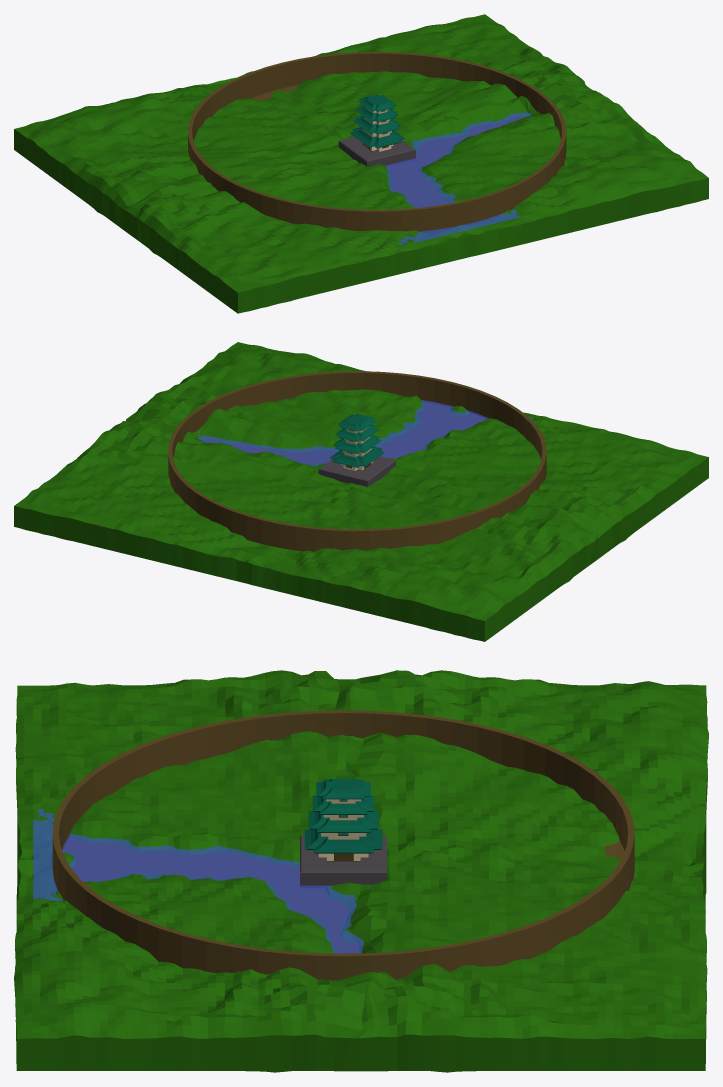
The model's file is fullmaptemp.fbx.
3 views of the same model, one above another, from view 1: azimuth 30°, elevation 25°; view 2: azimuth 150°, elevation 25°; view 3: azimuth 270°, elevation 25° (orthographic). The views are drawn at different scales.
Visible parts, largest first — view 1: Cube, Cylinder, waterlevel, templebase, Cube.003, Cube.002, Cube.004; view 2: Cube, Cylinder, waterlevel, templebase, Cube.003, Cube.002, Cube.004; view 3: Cube, Cylinder, waterlevel, templebase, Cube.003, Cube.002, Cube.004, Cube.001.
Part boxes in pixels (<box>): Cube: <box>14,14,708,313</box>; Cylinder: <box>188,52,566,233</box>; waterlevel: <box>385,112,531,244</box>; templebase: <box>338,137,415,166</box>; Cube.003: <box>349,127,404,152</box>; Cube.002: <box>353,115,401,137</box>; Cube.004: <box>358,94,395,113</box>; Cube: <box>14,342,708,641</box>; Cylinder: <box>168,371,546,551</box>; waterlevel: <box>198,400,532,466</box>; templebase: <box>318,456,395,487</box>; Cube.003: <box>330,446,384,471</box>; Cube.002: <box>333,435,381,457</box>; Cube.004: <box>338,414,376,433</box>; Cube: <box>14,670,708,1072</box>; Cylinder: <box>52,710,634,980</box>; waterlevel: <box>33,809,363,953</box>; templebase: <box>300,835,386,887</box>; Cube.003: <box>304,829,382,861</box>; Cube.002: <box>308,811,378,839</box>; Cube.004: <box>316,779,370,803</box>; Cube.001: <box>312,795,374,820</box>.
Size of the model in its own units: 8379 by 1617 by 6891.
